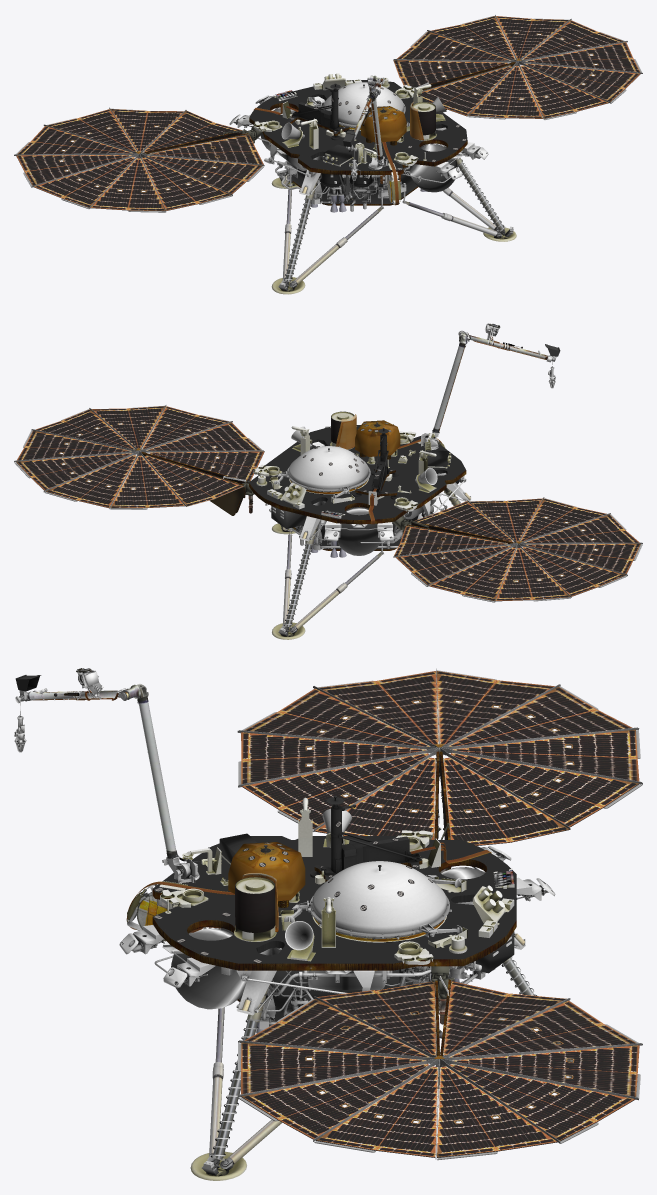
File: InSight Cruise Lander (arm deployed).glb
3 views of the same model, one above another, from view 1: azimuth 30°, elevation 25°; view 2: azimuth 150°, elevation 25°; view 3: azimuth 270°, elevation 25° (orthographic). The views are drawn at different scales.
Visible parts, largest first — view 1: deck, leg_l, leg_r, WTS, SEIS, HP3_v3d_baked, Cube.056, Cube.095, Cube.055, Cube.051, Cube.079, Cube.001 (+38 smaller); view 2: deck, WTS, leg_b, SEIS, Cube.047, Cube.083, Cube.081, Cube.078, Cube.064, Cube.085, Cube.061, Cube.049 (+39 smaller); view 3: deck, WTS, leg_r, Cube.089, Cube.091, Cube.060, Cube.059, Cube.087, HP3_v3d_baked, Cube.057, SEIS, Cube.086 (+38 smaller).
Boxes of the visible parts, x1,y1,x2,y2 form: deck: (229, 73, 488, 212); leg_l: (271, 178, 383, 294); leg_r: (403, 146, 516, 241); WTS: (313, 82, 405, 128); SEIS: (361, 106, 406, 145); HP3_v3d_baked: (287, 83, 351, 140); Cube.056: (144, 157, 232, 204); Cube.095: (468, 66, 517, 119); Cube.055: (147, 155, 264, 181); Cube.051: (128, 158, 165, 212); Cube.079: (393, 60, 507, 77); Cube.001: (33, 157, 133, 198); deck: (245, 424, 471, 557); WTS: (277, 446, 370, 493); leg_b: (272, 525, 383, 639); SEIS: (355, 420, 400, 459); Cube.047: (523, 546, 627, 587); Cube.083: (44, 455, 135, 501); Cube.081: (110, 455, 147, 509); Cube.078: (145, 455, 243, 498); Cube.064: (519, 548, 570, 601); Cube.085: (14, 453, 131, 478); Cube.061: (429, 547, 513, 594); Cube.049: (525, 543, 642, 560); deck: (119, 830, 555, 1033); WTS: (292, 861, 451, 939); leg_r: (190, 985, 282, 1180); Cube.089: (314, 1066, 435, 1152); Cube.091: (238, 1063, 428, 1121); Cube.060: (450, 752, 642, 808); Cube.059: (447, 757, 569, 842); Cube.087: (437, 1067, 497, 1160); HP3_v3d_baked: (310, 795, 422, 885); Cube.057: (241, 753, 428, 809); SEIS: (228, 842, 305, 907); Cube.086: (444, 1066, 557, 1151).
Size of the model in its own units: 6.14 by 2.17 by 3.33.
Materials: 11 (11 with a texture image).
